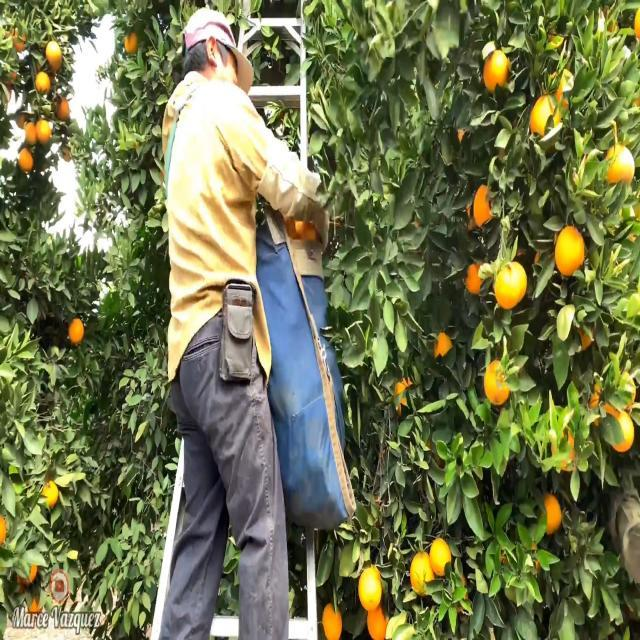Jeruk Sudah Matang: (554, 224, 584, 283), (495, 260, 529, 312), (530, 96, 564, 148), (480, 360, 513, 410), (604, 144, 638, 192), (602, 406, 636, 454), (538, 488, 566, 542), (469, 182, 499, 226), (356, 564, 383, 612), (481, 46, 509, 92), (409, 551, 434, 600), (428, 535, 454, 579), (432, 332, 456, 372), (320, 601, 344, 640), (66, 314, 85, 347), (44, 40, 63, 73), (15, 146, 34, 175), (42, 478, 58, 511), (122, 32, 140, 58), (55, 96, 71, 125), (36, 118, 52, 146), (34, 73, 51, 96), (26, 122, 38, 146)
